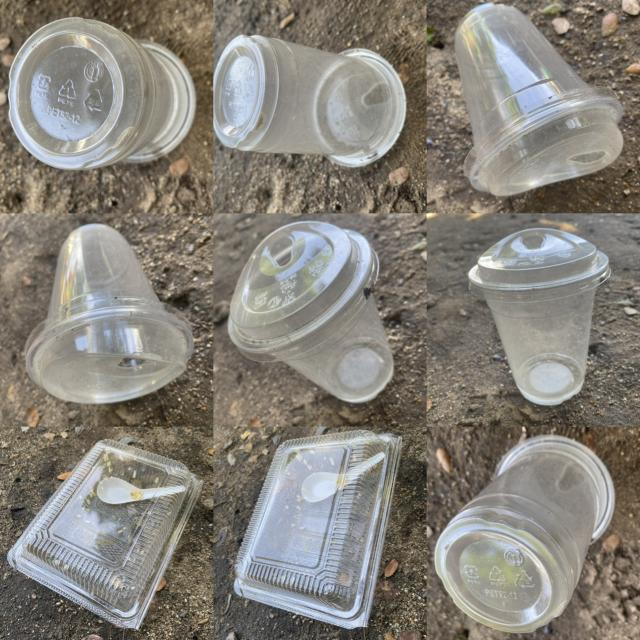Single-Use-Plastic: (8, 440, 202, 629), (435, 435, 615, 632), (234, 430, 401, 628), (455, 4, 622, 196), (25, 224, 194, 403), (228, 221, 394, 402), (9, 18, 196, 169), (214, 35, 405, 167), (469, 228, 611, 404), (301, 452, 385, 502), (96, 478, 185, 504)
